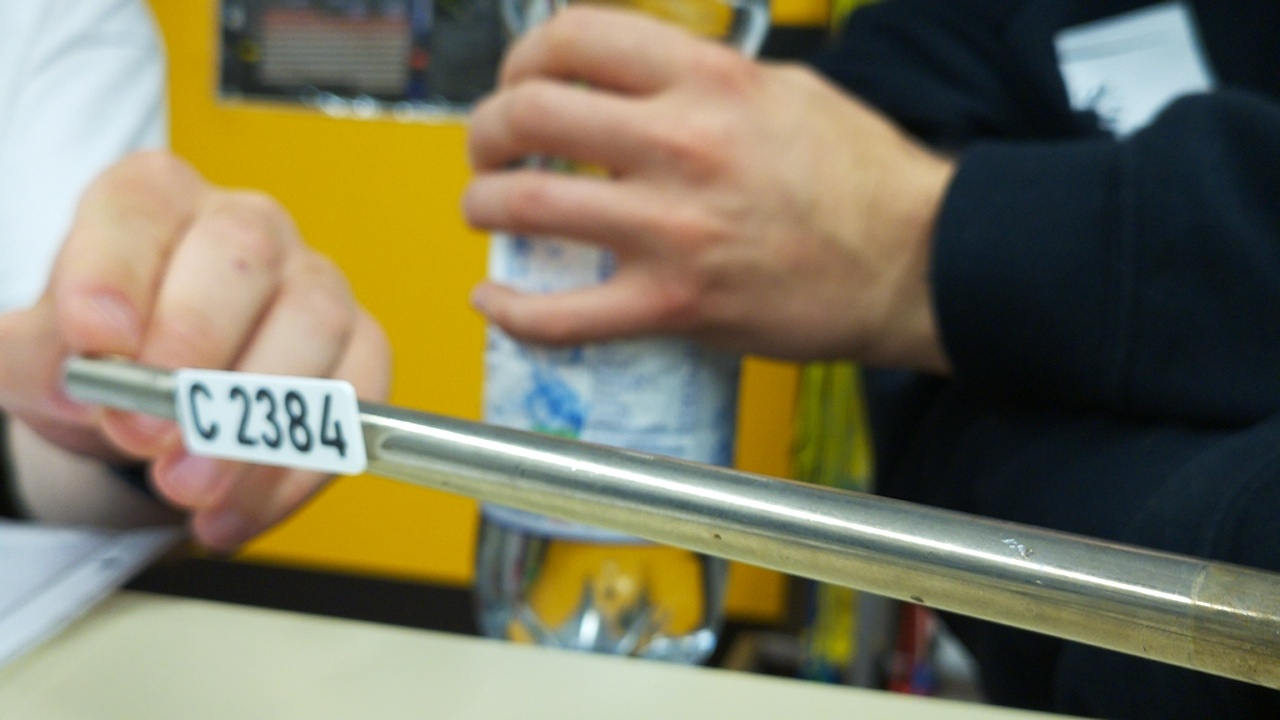license_plate: (176, 365, 371, 476)
